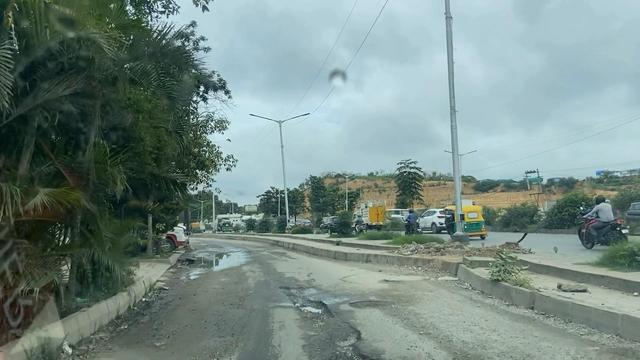RoadDamages: (266, 277, 339, 324), (284, 327, 383, 360), (377, 267, 450, 288), (348, 293, 390, 312)
